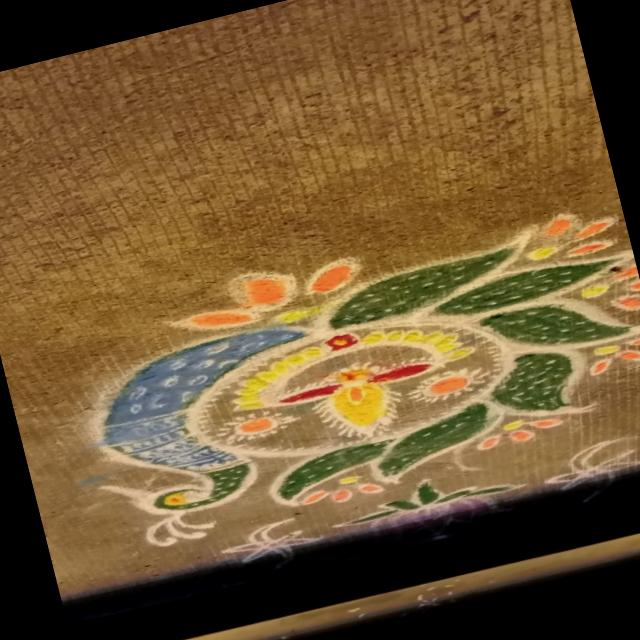rangoli: (6, 171, 640, 631)
